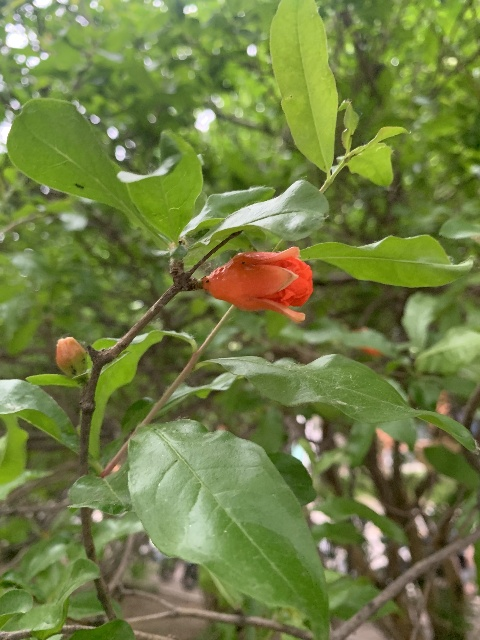bud: (55, 336, 86, 376)
flower: (201, 246, 311, 323)
